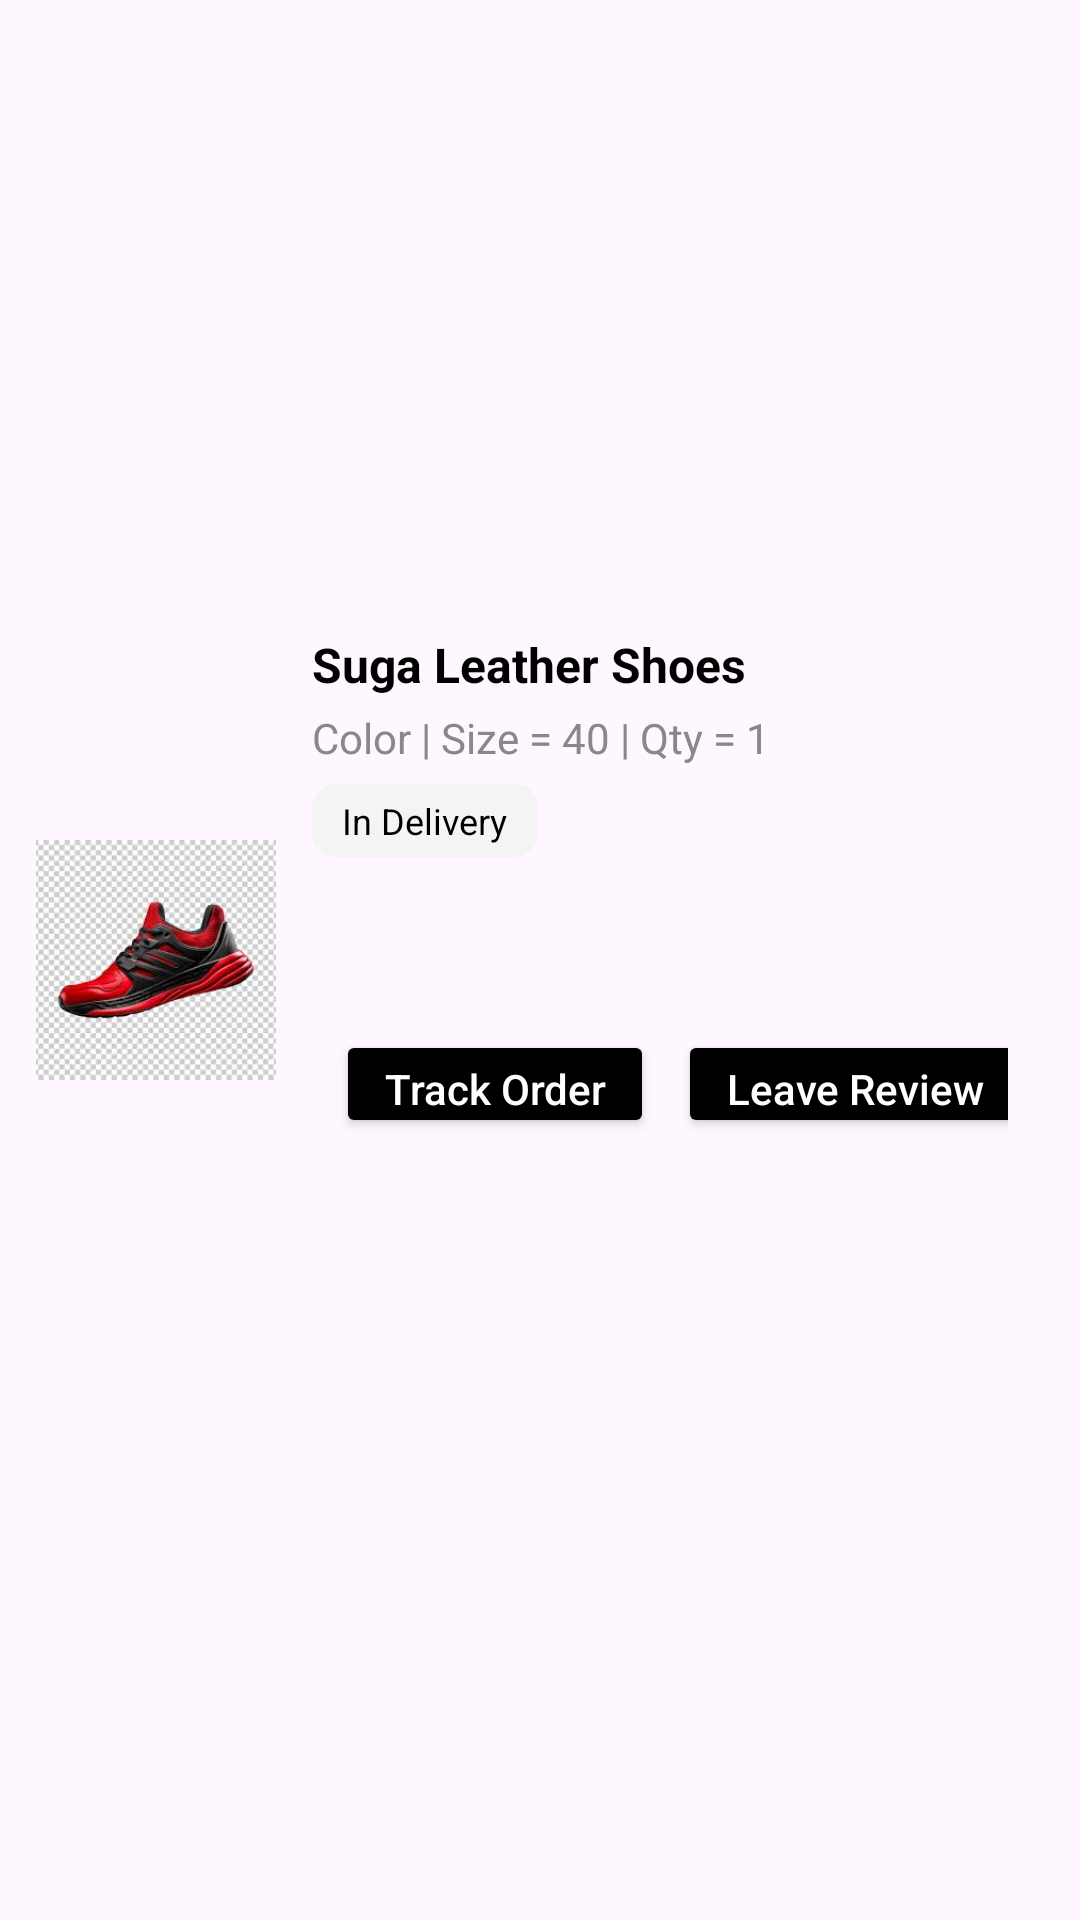

Icons on this 1080 x 1920 Android screen, each with the point to tap as point (x, y):
Product image: point (156, 960)
